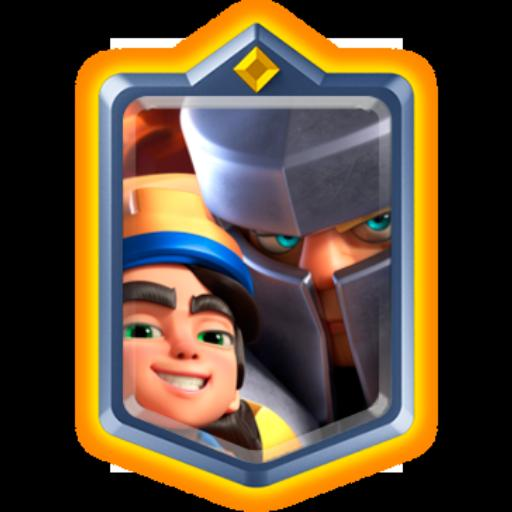little-prince: (113, 92, 401, 454)
